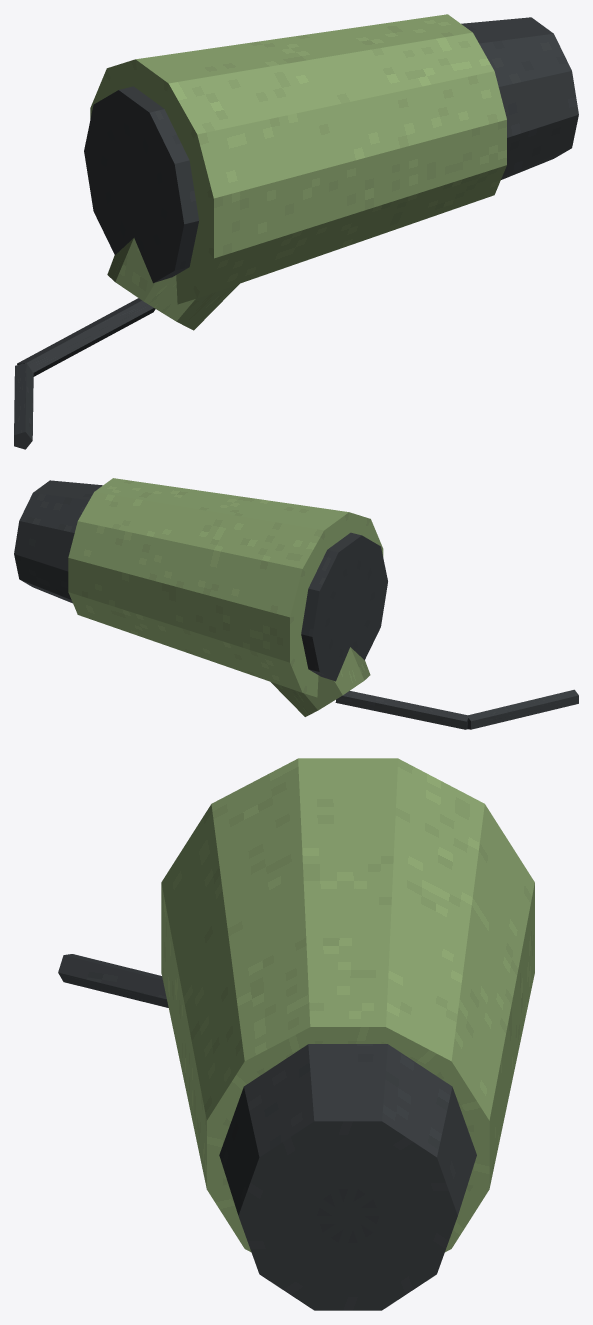
Rendered from hair_dryer.glb.
3 views of the same model, one above another, from view 1: azimuth 30°, elevation 25°; view 2: azimuth 150°, elevation 25°; view 3: azimuth 270°, elevation 25° (orthographic). The views are drawn at different scales.
Parts seen in each view (by area): view 1: block_blower housing, block_intake grille, block_concentrator, block_pistol grip, block_short cord 0, block_short cord 1; view 2: block_blower housing, block_intake grille, block_concentrator, block_pistol grip, block_short cord 0, block_short cord 1; view 3: block_blower housing, block_concentrator, block_short cord 1.
Boxes of the visible parts, box(x1,y1,x2,y2) form: block_blower housing: box(90, 14, 506, 304); block_intake grille: box(84, 86, 198, 283); block_concentrator: box(461, 17, 578, 179); block_pistol grip: box(107, 238, 239, 330); block_short cord 0: box(17, 298, 155, 376); block_short cord 1: box(14, 363, 33, 449); block_blower housing: box(68, 478, 383, 697); block_intake grille: box(301, 532, 387, 681); block_concentrator: box(14, 480, 102, 603); block_pistol grip: box(271, 647, 370, 716); block_short cord 0: box(335, 691, 468, 729); block_short cord 1: box(467, 689, 578, 729); block_blower housing: box(161, 758, 534, 1252); block_concentrator: box(219, 1044, 476, 1310); block_short cord 1: box(58, 954, 168, 1007).
Size of the model in its own units: 0.2071 by 0.083 by 0.0913.
Materials: 1 (1 with a texture image).
